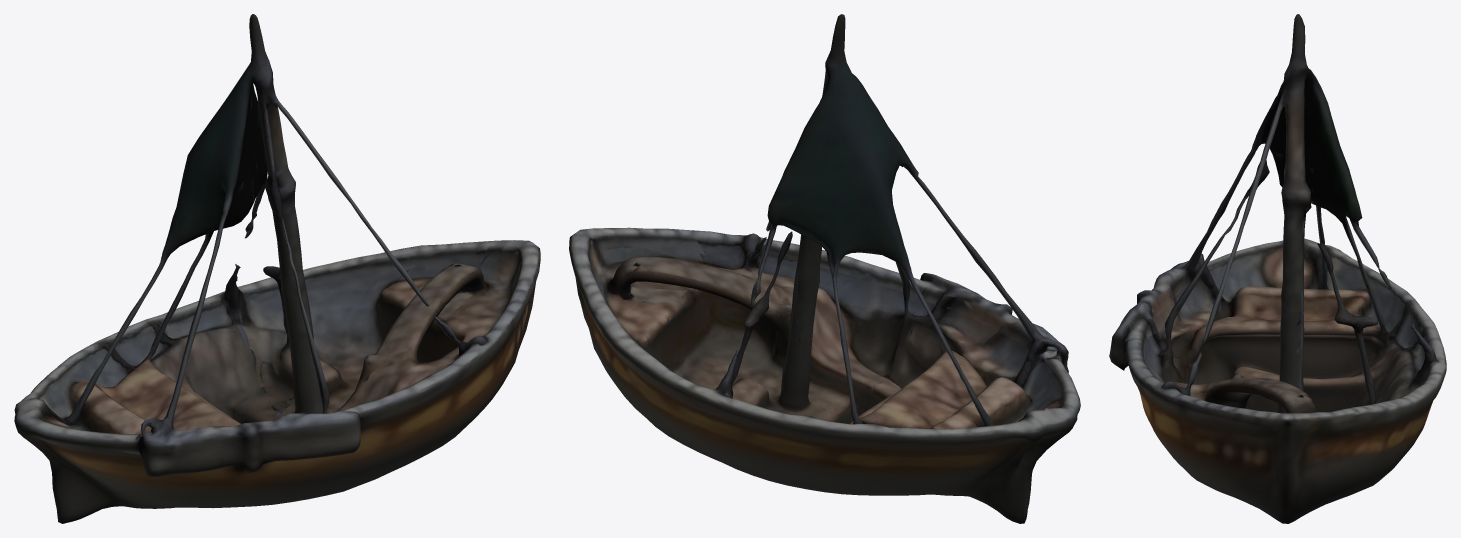
The model's file is SM_Vehiculo_BarcoMaderaPequeno_01.fbx.
The picture shows the model from 3 angles, left to right: view 1: azimuth 30°, elevation 25°; view 2: azimuth 150°, elevation 25°; view 3: azimuth 270°, elevation 25°; orthographic projection. The views are drawn at different scales.
Parts seen in each view (by area): view 1: SM_Vehiculo_BarcoMaderaPequeno_01; view 2: SM_Vehiculo_BarcoMaderaPequeno_01; view 3: SM_Vehiculo_BarcoMaderaPequeno_01.
Part boxes in pixels (bbox=[...]): SM_Vehiculo_BarcoMaderaPequeno_01: bbox=[14, 14, 540, 523]; SM_Vehiculo_BarcoMaderaPequeno_01: bbox=[569, 14, 1080, 523]; SM_Vehiculo_BarcoMaderaPequeno_01: bbox=[1109, 14, 1446, 523].
Size of the model in its own units: 0.9813 by 0.8559 by 0.5876.
Materials: 1 (1 with a texture image).
